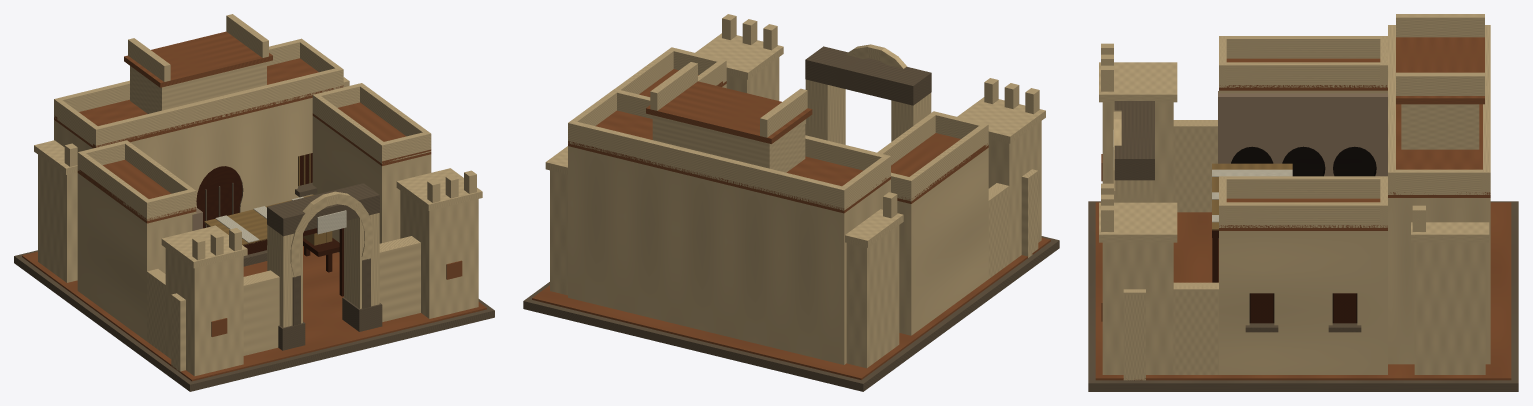
Rendered from Berber_TC_Age3.fbx.
The picture shows the model from 3 angles, left to right: view 1: azimuth 30°, elevation 25°; view 2: azimuth 150°, elevation 25°; view 3: azimuth 270°, elevation 25°; orthographic projection. The views are drawn at different scales.
Parts seen in each view (by area): view 1: rear_council_hall, west_range, council_courtyard, corner_watch_room, corner_watch_room.002, east_range, foundation, hall_parapet_long, corner_watch_room.001, front_enclosure, pavilion_cap, raised_council_roof_pavilion (+32 smaller); view 2: rear_council_hall, west_range, foundation, hall_parapet_long.001, corner_watch_room.001, council_courtyard, pavilion_cap, entry_lintel, raised_council_roof_pavilion, hall_roof, corner_watch_room, hall_parapet_long (+20 smaller); view 3: east_range, courtyard_arcade_wall, council_courtyard, corner_watch_room.003, foundation, corner_watch_room.002, rear_council_hall, side_enclosure_link.001, east_parapet_end.001, pavilion_cap, west_parapet_end.001, side_enclosure_link (+28 smaller).
Part boxes in pixels (x1,y1,x2,y2): rear_council_hall: (54, 98, 312, 212); west_range: (77, 173, 196, 341); council_courtyard: (22, 246, 486, 381); corner_watch_room: (165, 248, 243, 376); corner_watch_room.002: (400, 190, 478, 318); east_range: (312, 116, 431, 252); foundation: (14, 250, 494, 391); hall_parapet_long: (93, 67, 343, 147); corner_watch_room.001: (38, 155, 77, 282); front_enclosure: (171, 270, 279, 371); pavilion_cap: (124, 31, 272, 87); raised_council_roof_pavilion: (130, 62, 266, 113); rear_council_hall: (568, 146, 890, 364); west_range: (897, 148, 988, 335); foundation: (523, 236, 1059, 391); hall_parapet_long.001: (568, 120, 847, 210); corner_watch_room.001: (846, 225, 899, 368); council_courtyard: (532, 237, 1050, 379); pavilion_cap: (646, 81, 812, 143); entry_lintel: (805, 46, 931, 105); raised_council_roof_pavilion: (652, 115, 805, 172); hall_roof: (568, 110, 890, 213); corner_watch_room: (988, 121, 1041, 263); hall_parapet_long: (611, 89, 890, 178); east_range: (1219, 231, 1387, 374); courtyard_arcade_wall: (1218, 91, 1387, 238); council_courtyard: (1095, 202, 1511, 380); corner_watch_room.003: (1414, 242, 1485, 374); foundation: (1088, 201, 1518, 391); corner_watch_room.002: (1102, 242, 1173, 374); rear_council_hall: (1388, 198, 1490, 364); side_enclosure_link.001: (1173, 282, 1218, 374); east_parapet_end.001: (1226, 202, 1380, 227); pavilion_cap: (1396, 37, 1484, 104); west_parapet_end.001: (1226, 62, 1380, 87); side_enclosure_link: (1173, 120, 1217, 212).
Bounding box in the file's own units: 800 × 525 × 800.
7 materials, 7 textured.
